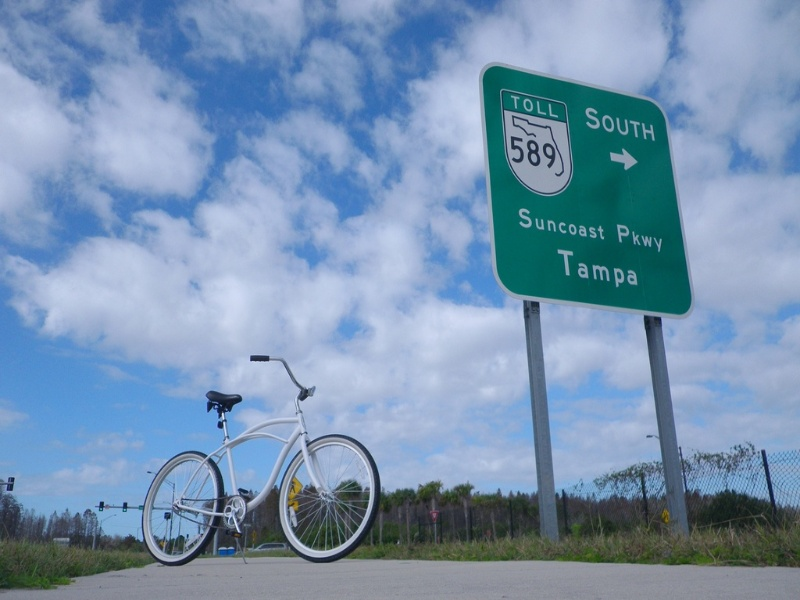right_direction: (608, 147, 639, 172)
